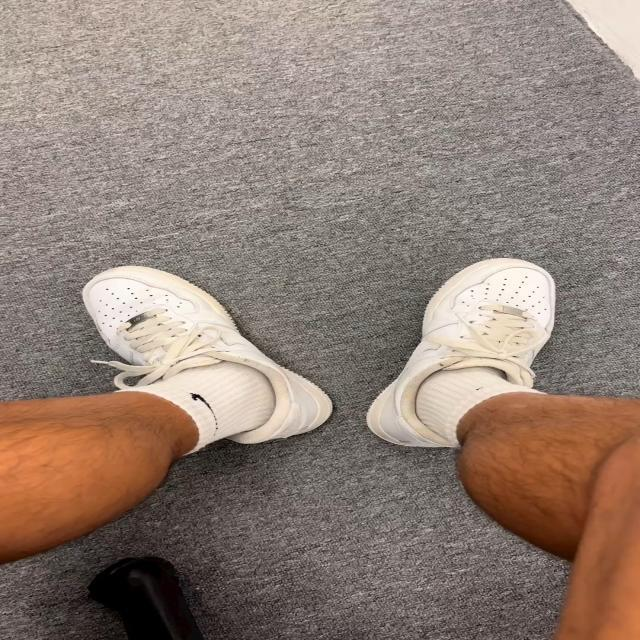nike original air force: (72, 260, 334, 454), (364, 261, 564, 462)
